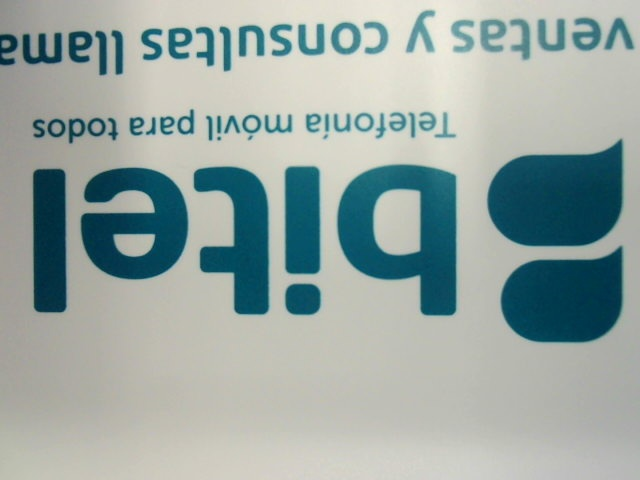BE_bitel: (19, 143, 624, 336)
